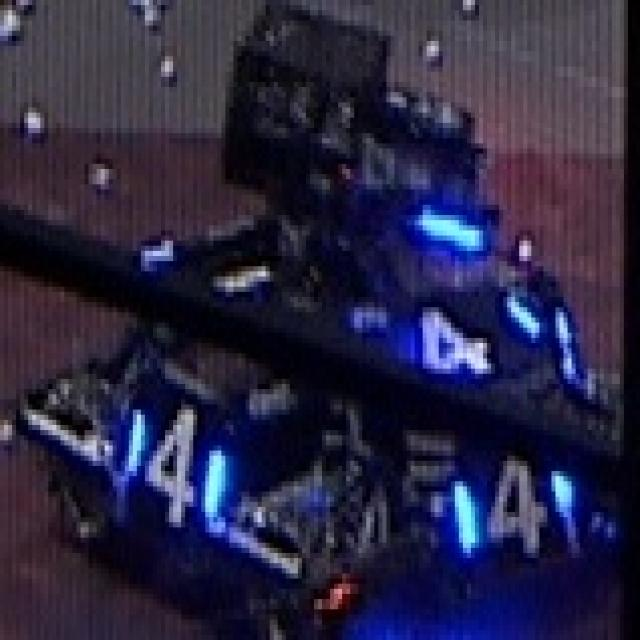B4: (450, 451, 576, 558), (125, 400, 225, 528)
